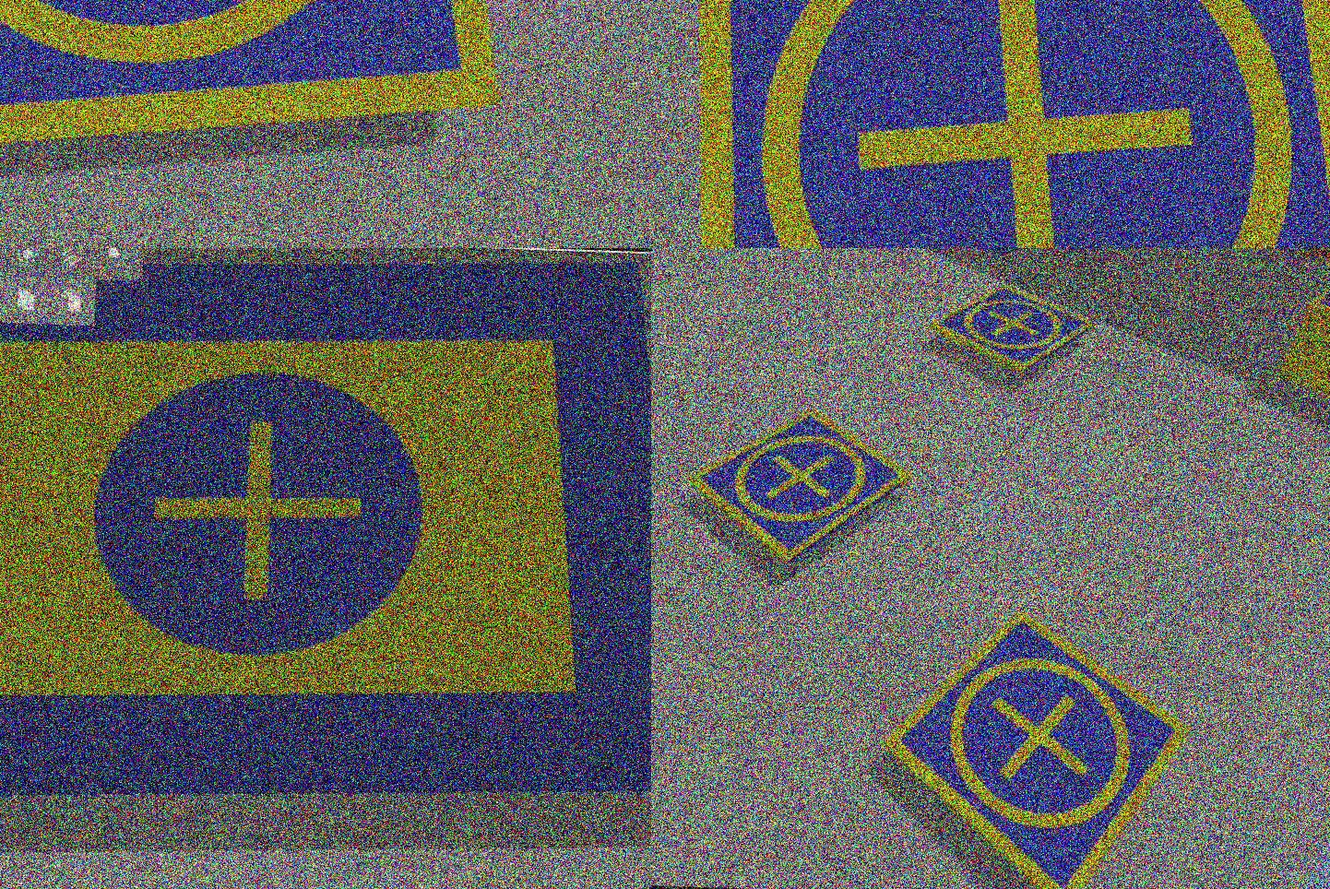large_base: (1, 249, 652, 827)
small_base: (678, 1, 1330, 249), (1, 1, 525, 185), (877, 605, 1193, 889), (683, 406, 916, 571), (929, 280, 1099, 380)
